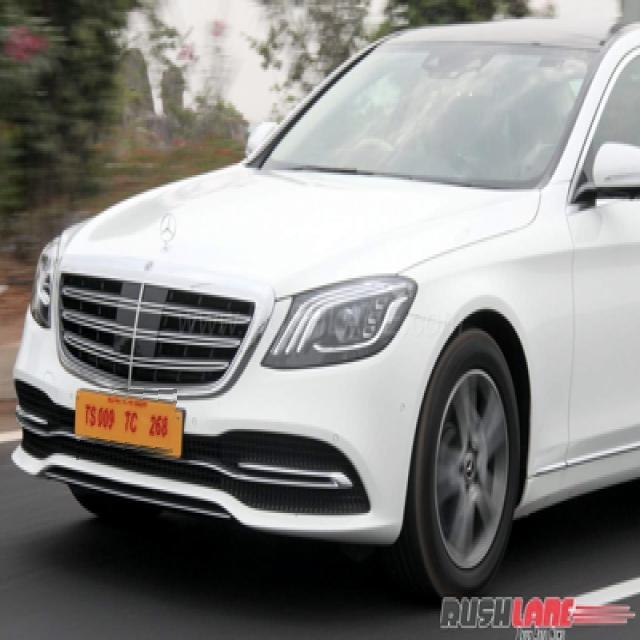licence: (76, 388, 178, 461)
